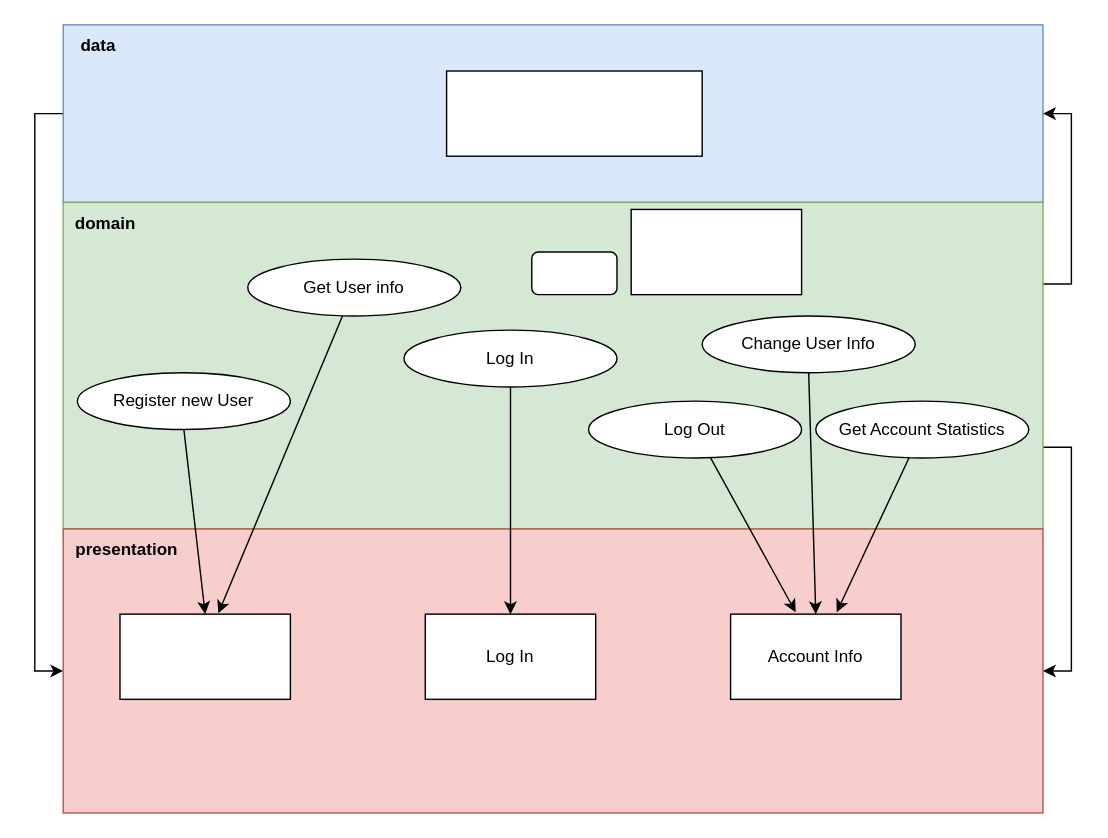
Some shapes in this 1108 by 838 pixel diagram are drawn without their labels. The box of each missing label's shape, as (x1, y1, x2, y2) in pixels:
Register: (119, 613, 290, 699)
user: (530, 251, 617, 295)
User Repository: (630, 208, 802, 295)
UserRepositoryImplementation: (445, 70, 702, 156)
